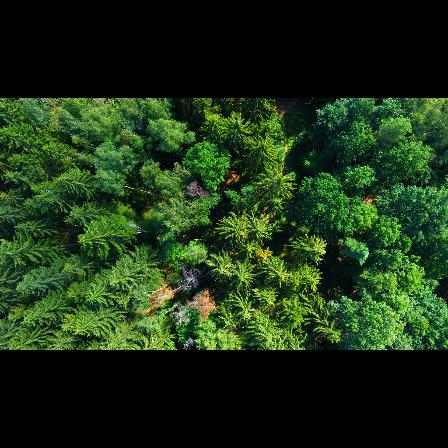Dead: (173, 265, 207, 291), (166, 299, 196, 327), (184, 181, 212, 199)
